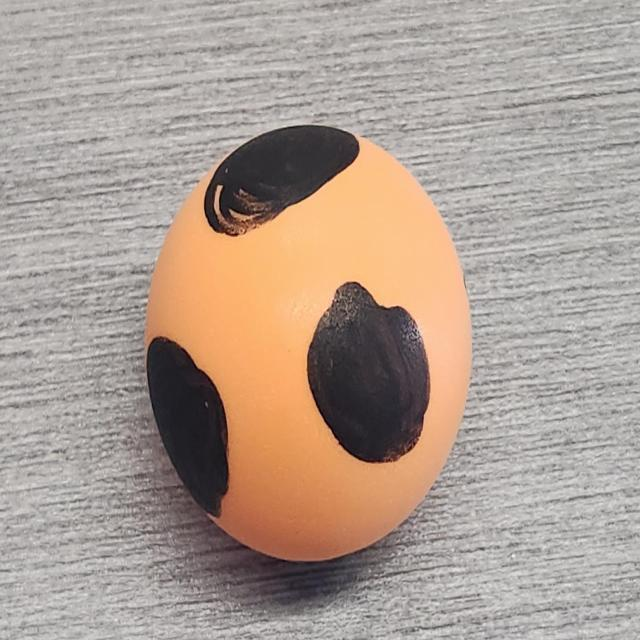ping-pong-ball: (117, 92, 537, 602)
